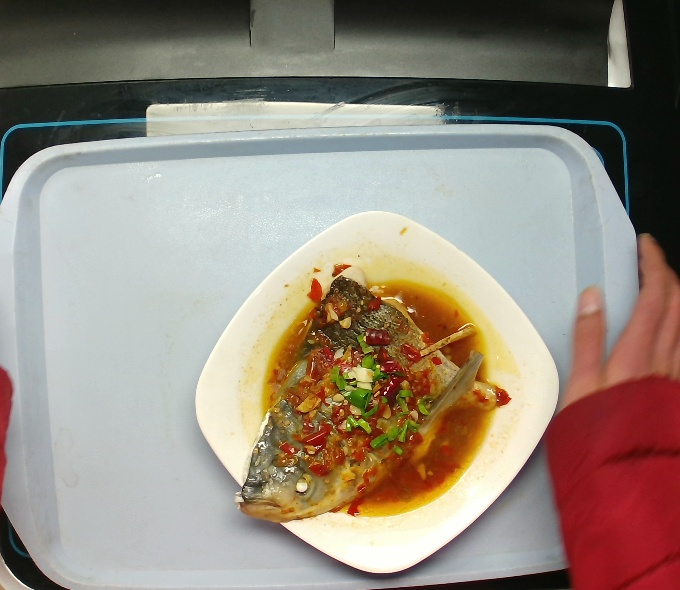wcq-DuoJiaoYuTou: (228, 254, 517, 526)
